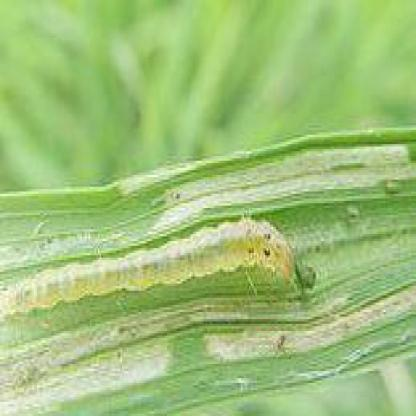leaf-folder: (3, 231, 326, 320)
